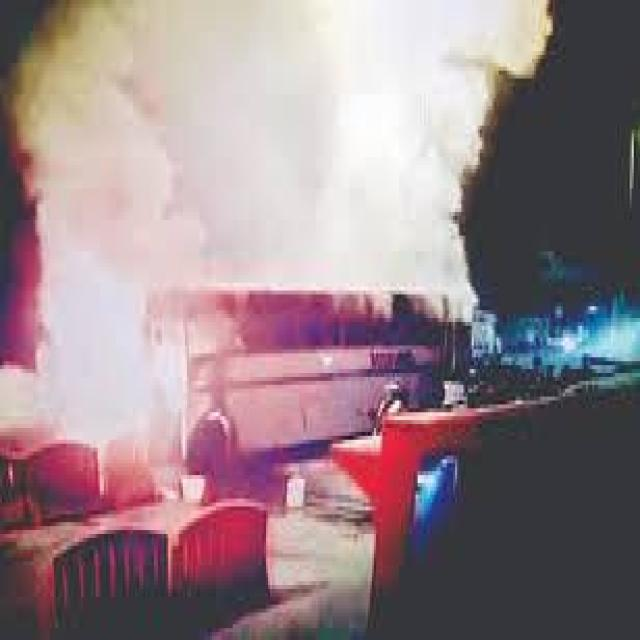fire: (47, 272, 176, 428)
smoke: (19, 24, 472, 237)
